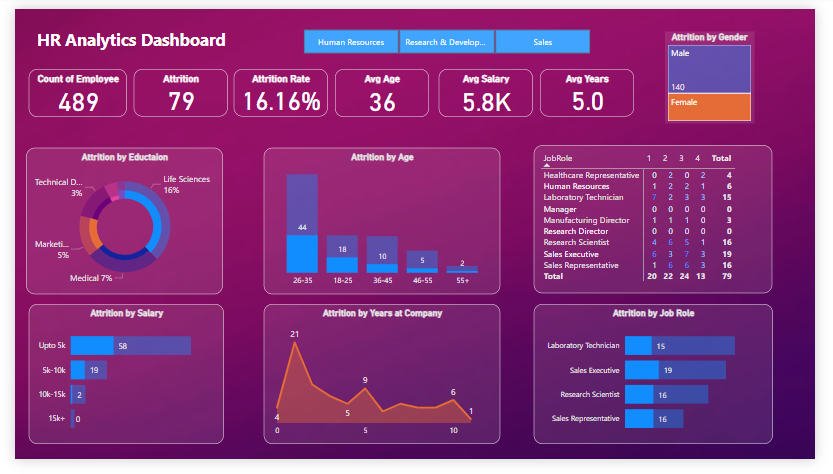

This screenshot's page, from the dashboard's own definition file:
{"tool":"powerbi","page":{"name":"Page 1","canvas":[1280,720],"ordinal":0},"visuals":[{"type":"card","title":"Avg Salary","fields":{"Values":["Avg(HR_Analytics.MonthlyIncome)"]},"box":[678.6,95.7,150,77.1],"z":0},{"type":"card","title":"Count of Employee","fields":{"Values":["CountNonNull(HR_Analytics.EmpID)"]},"box":[21.4,95.7,157.1,77.1],"z":1000},{"type":"card","title":"Attrition","fields":{"Values":["Sum(HR_Analytics.AttritionCount)"]},"box":[190,96,150,75.7],"z":2000},{"type":"card","title":"Attrition Rate","fields":{"Values":["HR_Analytics.AttritionRate"]},"box":[350,95.7,150,75.7],"z":3000},{"type":"card","title":"Avg Years","fields":{"Values":["Avg(HR_Analytics.YearsAtCompany)"]},"box":[840,95.7,150,75.7],"z":4000},{"type":"card","title":"Avg Age","fields":{"Values":["Avg(HR_Analytics.Age)"]},"box":[511.4,95.7,150,77.1],"z":5000},{"type":"donutChart","title":"Attrition by Eductaion","fields":{"Category":["HR_Analytics.EducationField"],"Y":["Sum(HR_Analytics.AttritionCount)"]},"box":[18.6,221.4,314.3,234.3],"z":6000},{"type":"pivotTable","title":"Attrition by Eductaion","fields":{"Rows":["HR_Analytics.JobRole"],"Columns":["HR_Analytics.JobSatisfaction"],"Values":["Sum(HR_Analytics.AttritionCount)"]},"box":[830,218.6,381.4,237.1],"z":7000},{"type":"columnChart","title":"Attrition by Age","fields":{"Category":["HR_Analytics.AgeGroup"],"Y":["Sum(HR_Analytics.AttritionCount)"]},"box":[398.6,221.4,378.6,234.3],"z":8000},{"type":"barChart","title":"Attrition by Salary","fields":{"Category":["HR_Analytics.SalarySlab"],"Y":["Sum(HR_Analytics.AttritionCount)"]},"box":[22,472,312,224],"z":9000},{"type":"barChart","title":"Attrition by Job Role","fields":{"Y":["Sum(HR_Analytics.AttritionCount)"],"Category":["HR_Analytics.JobRole"]},"box":[830,472,382,224],"z":10000},{"type":"areaChart","title":"Attrition by Years at Company","fields":{"Category":["HR_Analytics.YearsAtCompany"],"Y":["Sum(HR_Analytics.AttritionCount)"]},"box":[398.6,471.4,378.6,224.3],"z":11000},{"type":"treemap","title":"Attrition by Gender","fields":{"Group":["HR_Analytics.Gender"],"Values":["Sum(HR_Analytics.AttritionCount)"]},"box":[1040,35.7,142.9,147.1],"z":12000},{"type":"slicer","fields":{"Values":["HR_Analytics.Department"]},"box":[435,25,508.3,51.7],"z":13000},{"type":"textbox","box":[30,25.7,345.7,58.6],"z":14000}]}

Visuals, with their boxes in screenshot pixels (x1, y1, x2, y2), scaled from the page's 1280x720 canvas onto the 833x474 screenshot:
"Avg Salary" card: <box>442,63,539,114</box>
"Count of Employee" card: <box>14,63,116,114</box>
"Attrition" card: <box>124,63,221,113</box>
"Attrition Rate" card: <box>228,63,325,113</box>
"Avg Years" card: <box>547,63,644,113</box>
"Avg Age" card: <box>333,63,430,114</box>
"Attrition by Eductaion" donutChart: <box>12,146,217,300</box>
"Attrition by Eductaion" pivotTable: <box>540,144,788,300</box>
"Attrition by Age" columnChart: <box>259,146,506,300</box>
"Attrition by Salary" barChart: <box>14,311,217,458</box>
"Attrition by Job Role" barChart: <box>540,311,789,458</box>
"Attrition by Years at Company" areaChart: <box>259,310,506,458</box>
"Attrition by Gender" treemap: <box>677,24,770,120</box>
slicer - HR_Analytics.Department: <box>283,16,614,50</box>
textbox: <box>20,17,244,55</box>
